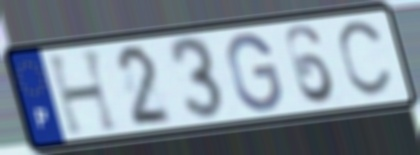2: (115, 43, 175, 130)
3: (171, 34, 225, 125)
6: (284, 23, 338, 108)
C: (335, 17, 396, 101)
G: (225, 30, 285, 114)
H: (44, 46, 123, 139)
